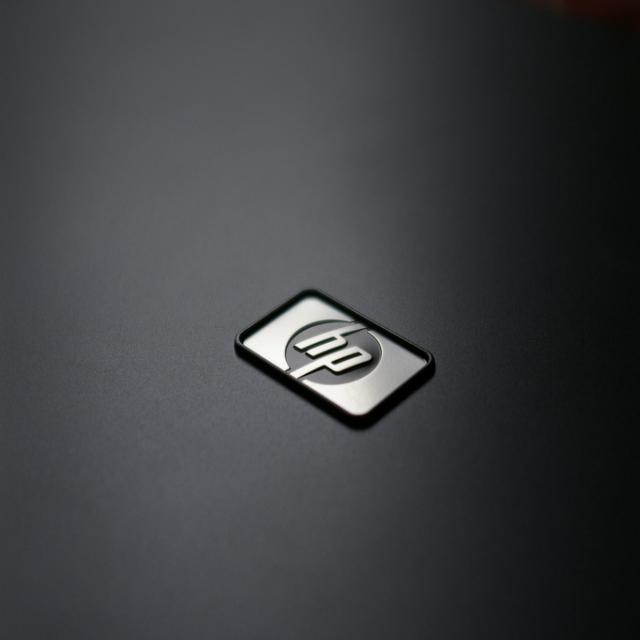HP: (241, 293, 429, 421)
